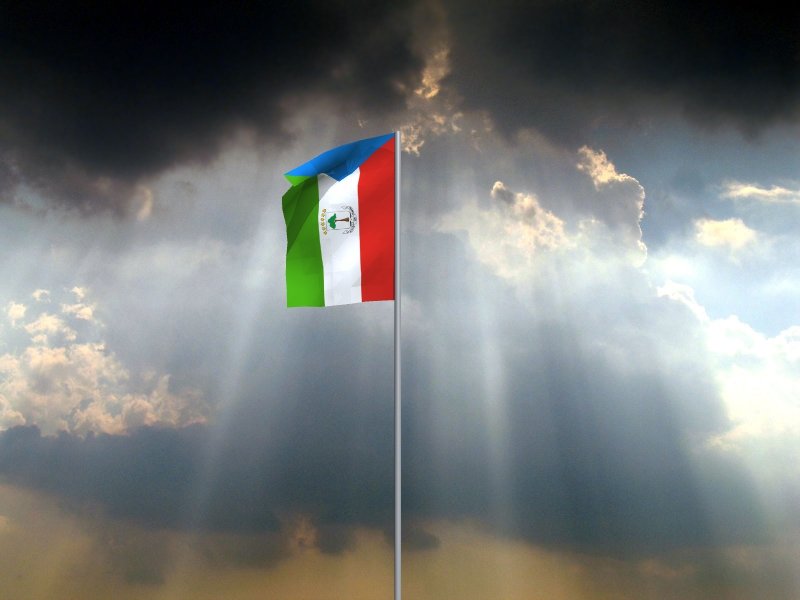gq: (281, 133, 396, 310)
